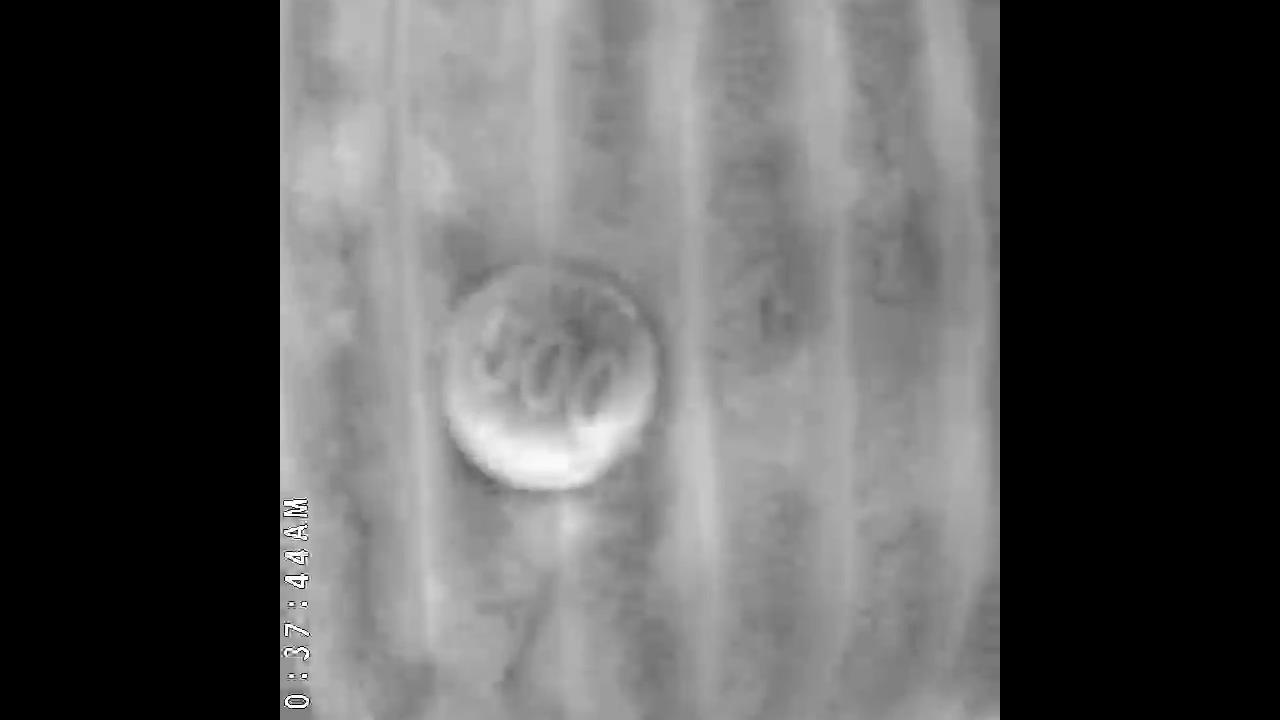coin: (435, 256, 663, 496)
